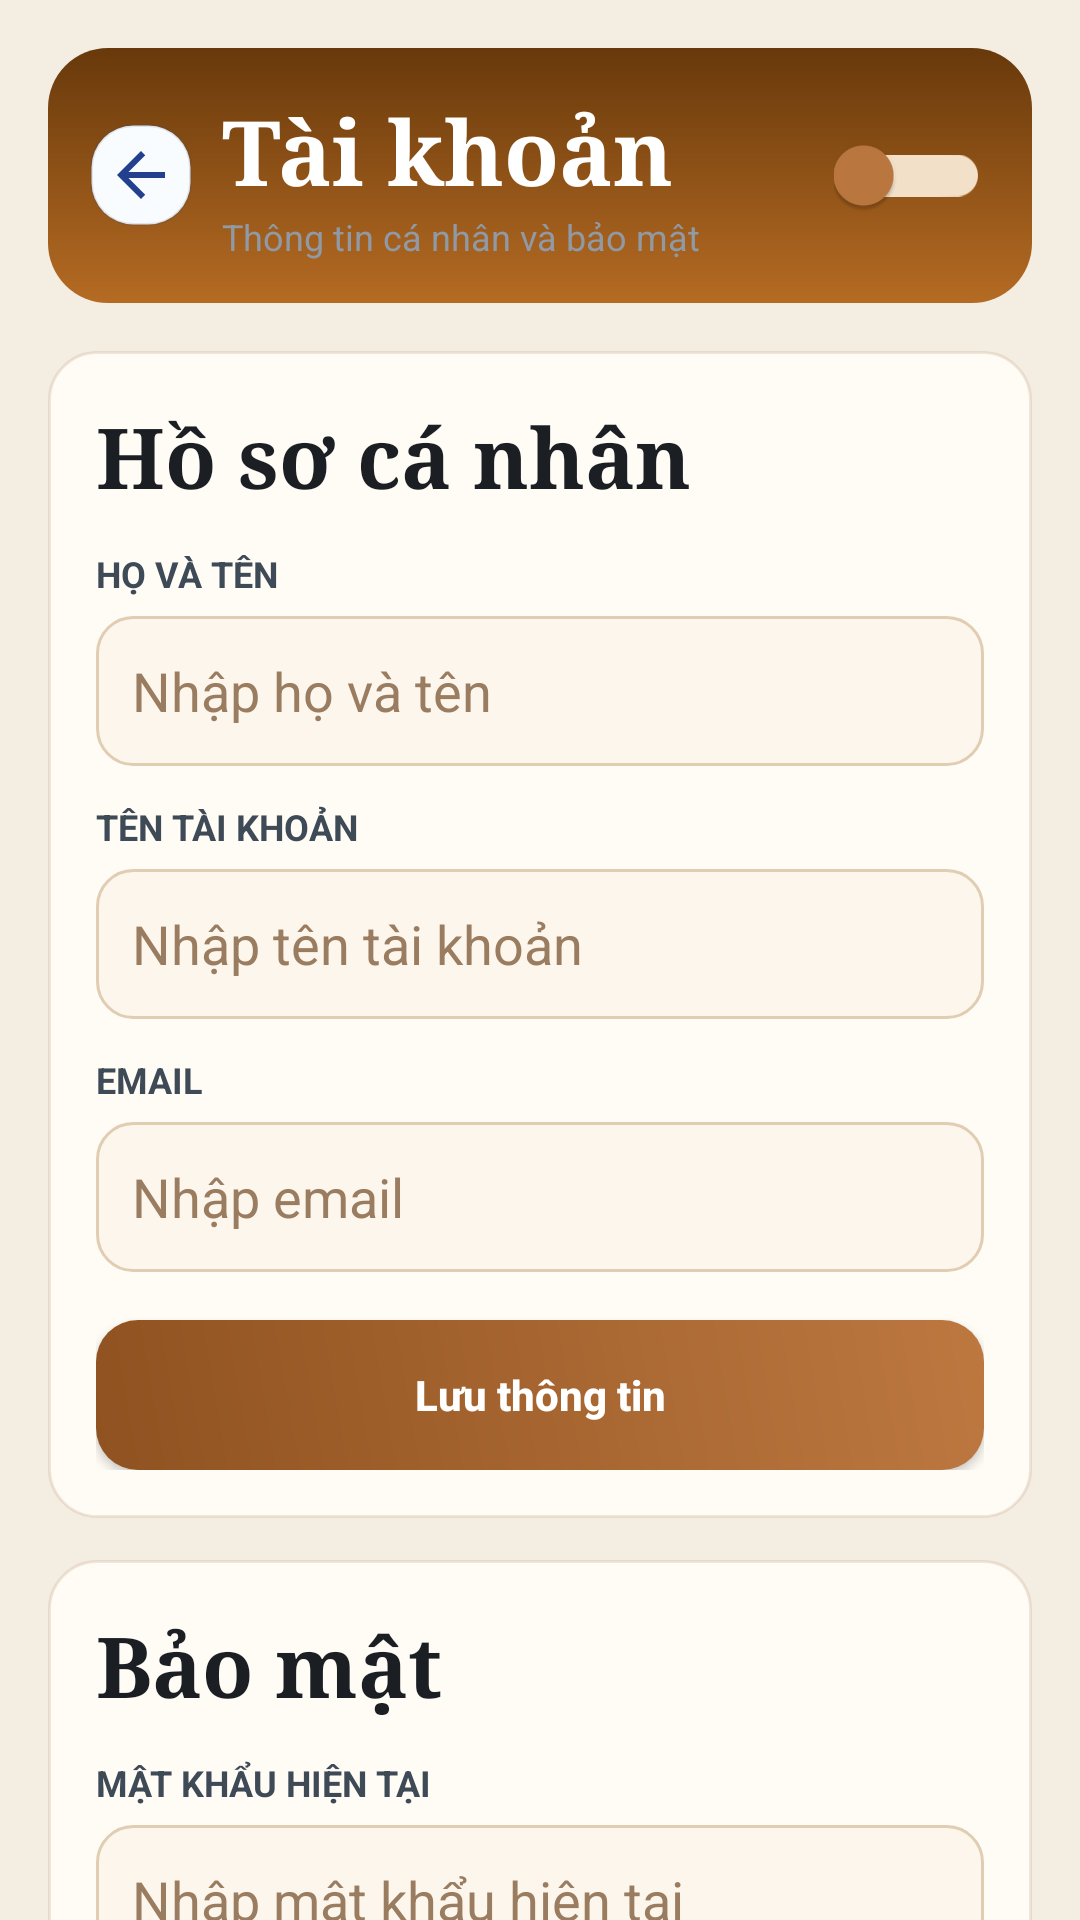

Icons on this 1080w x 1920h Android screen, each with the point to tap as [x,y]:
Quay lại: [141,174]
